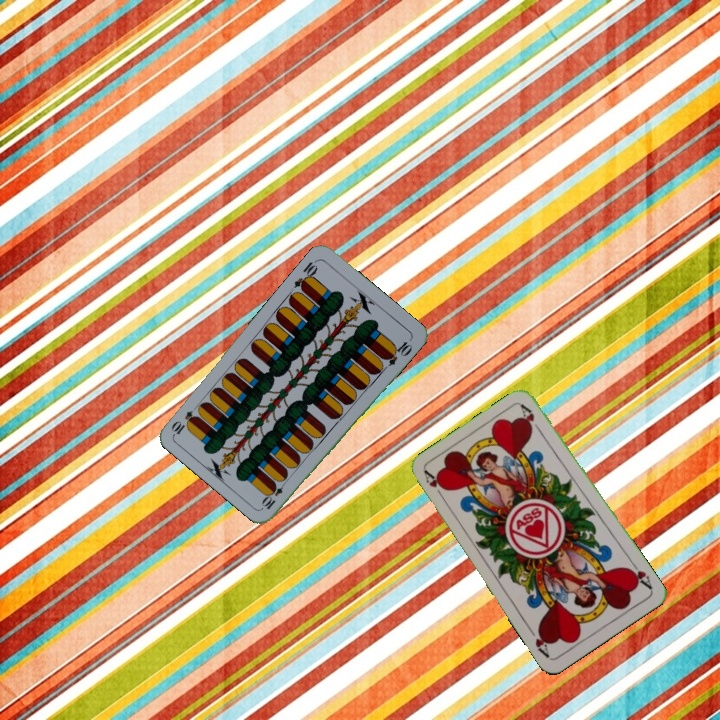E10: (258, 475, 290, 512), (290, 256, 321, 294)
HA: (623, 556, 655, 592), (420, 467, 449, 504)
